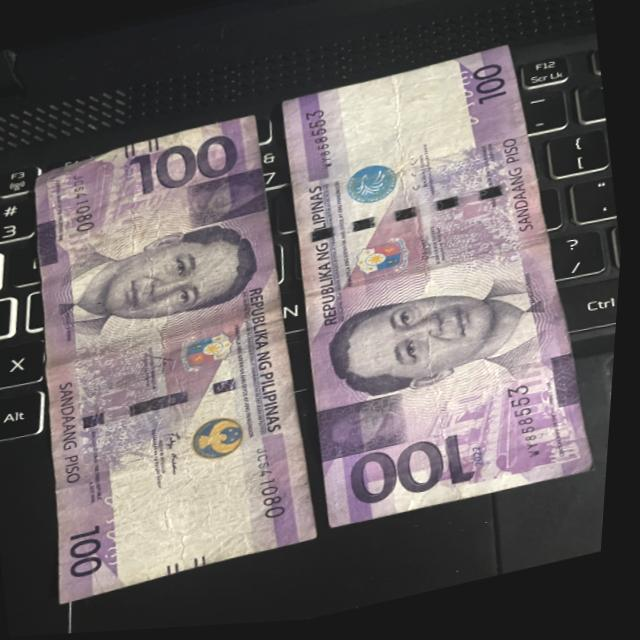concealed_value: (314, 395, 414, 469), (179, 171, 271, 235)
security_thread: (290, 180, 542, 251), (56, 367, 298, 438)
serial_number: (495, 381, 557, 483), (248, 446, 305, 536), (297, 104, 347, 183), (60, 165, 106, 245)
value: (349, 426, 485, 519), (126, 128, 251, 207)
watermark: (126, 466, 253, 567)
